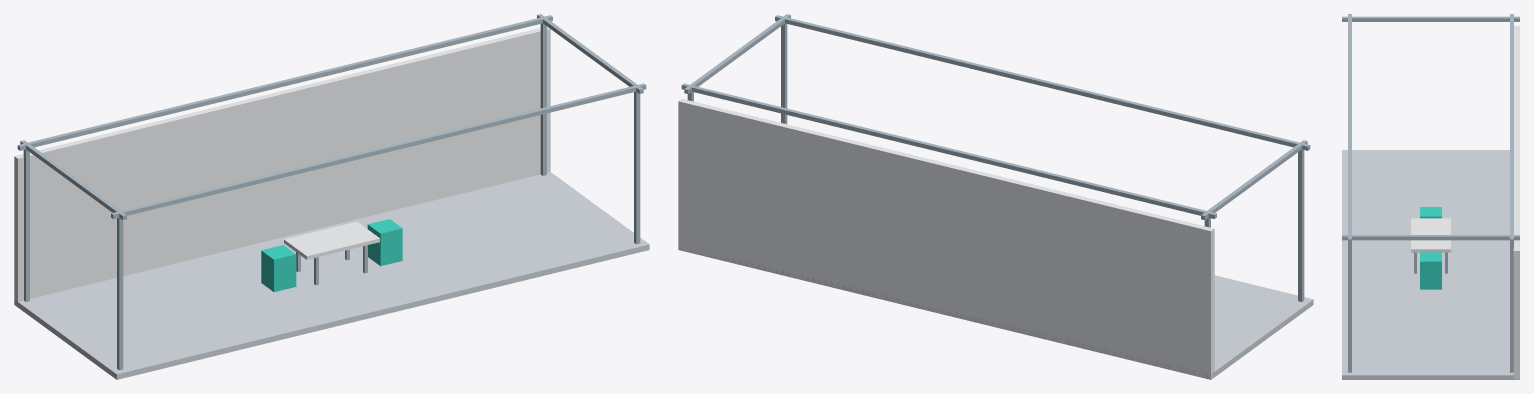
3 views of the same model, side by side, from view 1: azimuth 30°, elevation 25°; view 2: azimuth 150°, elevation 25°; view 3: azimuth 270°, elevation 25° (orthographic). The views are drawn at different scales.
Parts seen in each view (by area): view 1: Exhibition Booth Concept; view 2: Exhibition Booth Concept; view 3: Exhibition Booth Concept.
Part boxes in pixels (box(x1,y1,x2,y2)): Exhibition Booth Concept: box(14, 14, 649, 379); Exhibition Booth Concept: box(678, 14, 1313, 379); Exhibition Booth Concept: box(1342, 14, 1519, 379).
Bounding box in the file's own units: 12 × 3.49 × 4.
